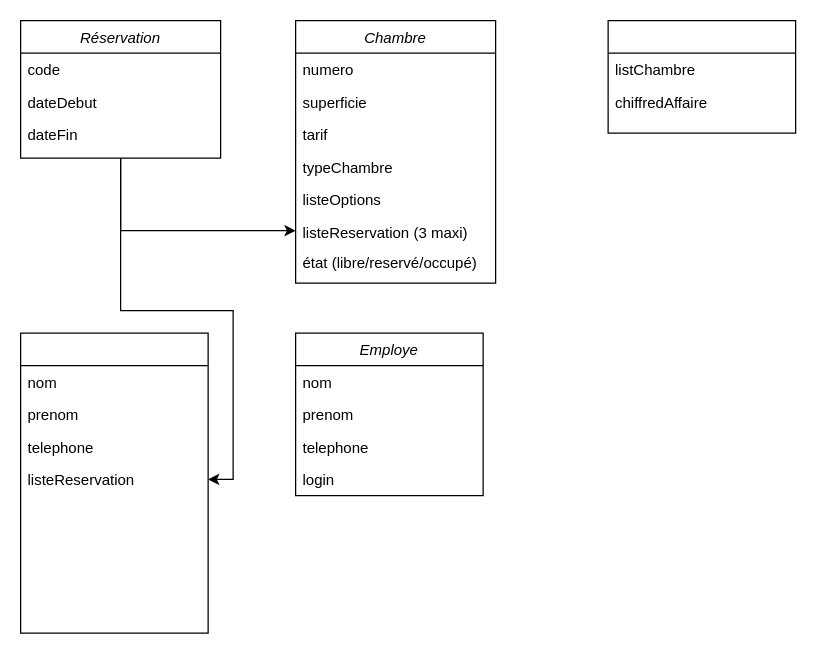
Some shapes in this 816 by 654 pixel diagram are drawn without their labels. The box of each missing label's shape, as (x1, y1, x2, y2) in pixels:
Client: (19, 332, 208, 633)
Hotel: (607, 19, 796, 133)
